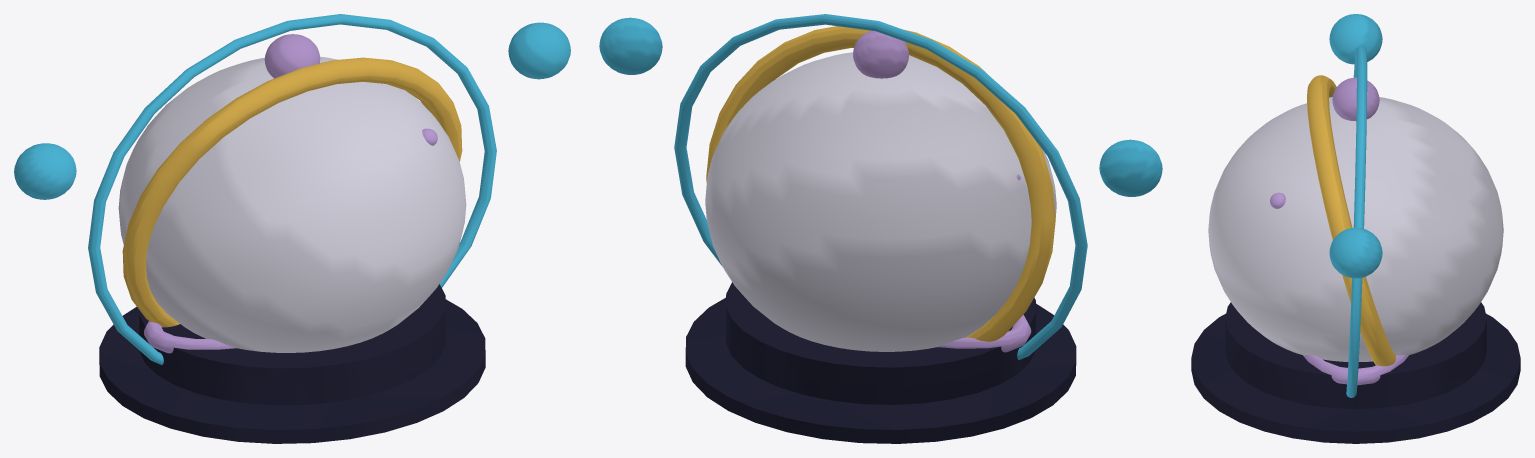
Rendered from 0046_天文图鉴_冥王星.glb.
The picture shows the model from 3 angles, left to right: view 1: azimuth 30°, elevation 25°; view 2: azimuth 150°, elevation 25°; view 3: azimuth 270°, elevation 25°; orthographic projection. The views are drawn at different scales.
Parts seen in each view (by area): view 1: card_0046; view 2: card_0046; view 3: card_0046.
Part boxes in pixels (x1,y1,x2,y2): card_0046: (14,14,570,443); card_0046: (599,14,1162,443); card_0046: (1191,14,1520,443).
Bounding box in the file's own units: 1.64 × 1 × 0.9592.
